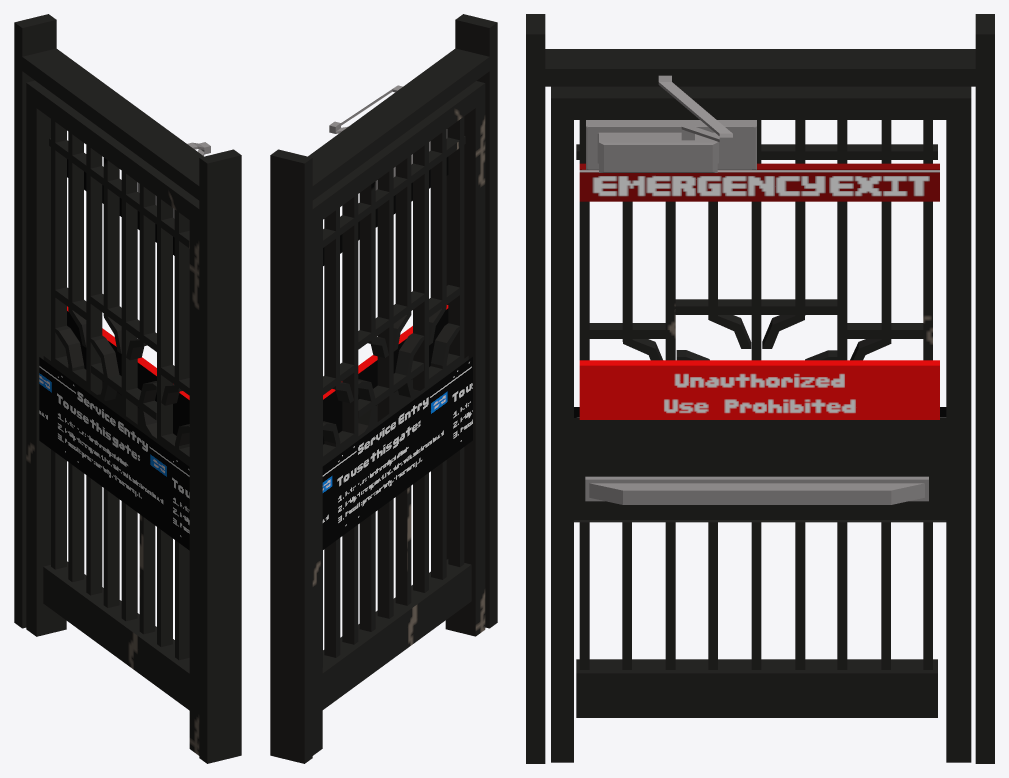
File: Emergency_Exit_Door.obj
3 views of the same model, side by side, from view 1: azimuth 30°, elevation 25°; view 2: azimuth 150°, elevation 25°; view 3: azimuth 270°, elevation 25° (orthographic). The views are drawn at different scales.
Visible parts, largest first — view 1: gate_Material.005, Cube_Material, gate_Material.003, gate_Sign_2, gate_Base, gate_Material.004; view 2: gate_Material.005, Cube_Material, gate_Material.003, gate_Sign_2, gate_Base, gate_Material.004, Cube.001_Material.011; view 3: gate_Base, Cube_Material, gate_Sign_1, gate_Material.004, gate_Material.003, gate_Material.005, gate_Shiny, Cube.001_Material.011.
Boxes of the visible parts, x1=… form: gate_Material.005: x1=26, y1=83, x2=199, y2=755; Cube_Material: x1=14, y1=14, x2=241, y2=763; gate_Material.003: x1=49, y1=122, x2=189, y2=647; gate_Sign_2: x1=39, y1=159, x2=189, y2=550; gate_Base: x1=26, y1=80, x2=199, y2=636; gate_Material.004: x1=43, y1=561, x2=189, y2=673; gate_Material.005: x1=312, y1=83, x2=485, y2=755; Cube_Material: x1=270, y1=14, x2=497, y2=763; gate_Material.003: x1=322, y1=120, x2=465, y2=644; gate_Sign_2: x1=322, y1=157, x2=472, y2=549; gate_Base: x1=312, y1=81, x2=484, y2=636; gate_Material.004: x1=322, y1=559, x2=470, y2=672; Cube.001_Material.011: x1=329, y1=85, x2=447, y2=190; gate_Base: x1=551, y1=86, x2=971, y2=762; Cube_Material: x1=526, y1=14, x2=994, y2=763; gate_Sign_1: x1=579, y1=163, x2=939, y2=419; gate_Material.004: x1=576, y1=659, x2=937, y2=717; gate_Material.003: x1=576, y1=120, x2=937, y2=669; gate_Material.005: x1=581, y1=120, x2=925, y2=669; gate_Shiny: x1=585, y1=476, x2=928, y2=504; Cube.001_Material.011: x1=586, y1=75, x2=756, y2=172.
Size of the model in its own units: 0.9718 by 6.7 by 3.9.
